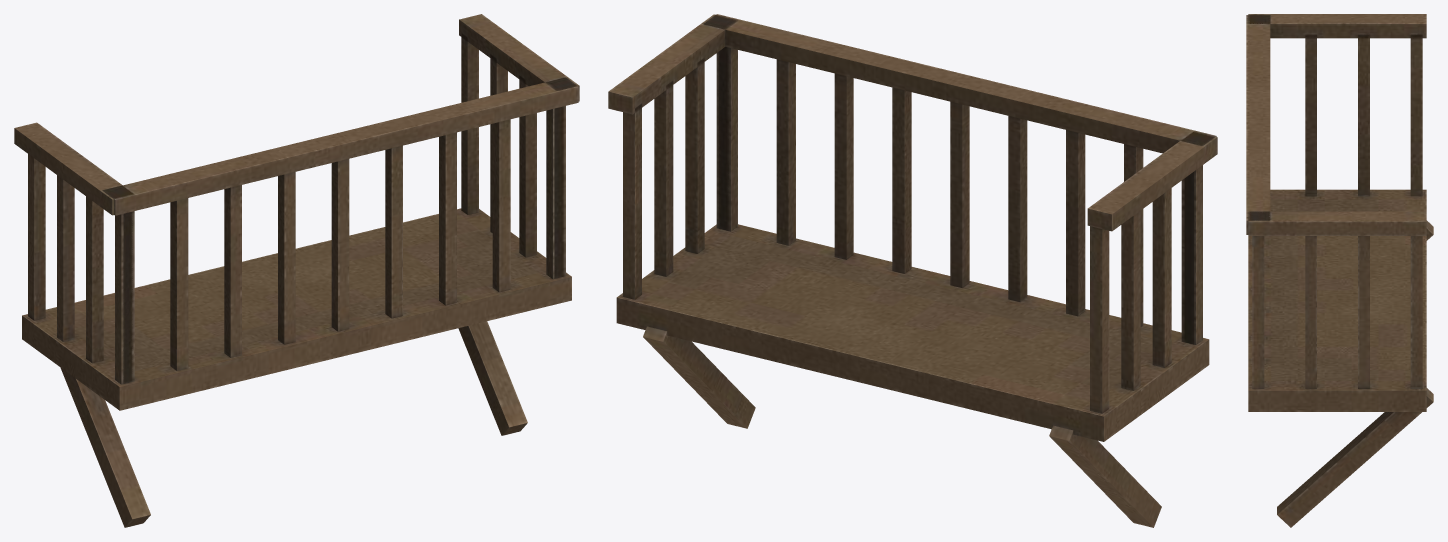
File: sacada.glb
The picture shows the model from 3 angles, left to right: view 1: azimuth 30°, elevation 25°; view 2: azimuth 150°, elevation 25°; view 3: azimuth 270°, elevation 25°; orthographic projection. The views are drawn at different scales.
Parts seen in each view (by area): view 1: sacada; view 2: sacada; view 3: sacada.
Boxes of the visible parts, x1,y1,x2,y2 form: sacada: [14, 14, 579, 527]; sacada: [608, 14, 1217, 527]; sacada: [1246, 14, 1433, 527].
Size of the model in its own units: 2.48 by 1.8 by 0.9449.
1 material, 1 textured.
